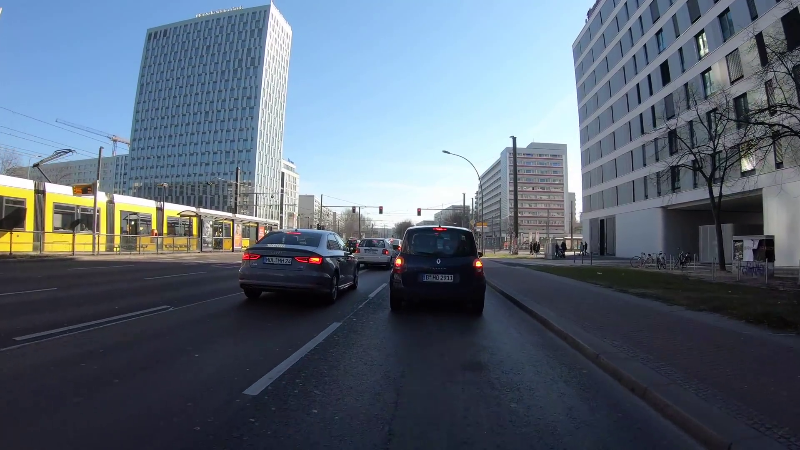Plate: (416, 271, 454, 284), (258, 254, 292, 267)
